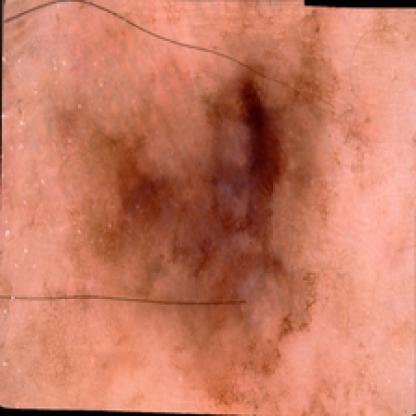malignant: (110, 58, 320, 312)
